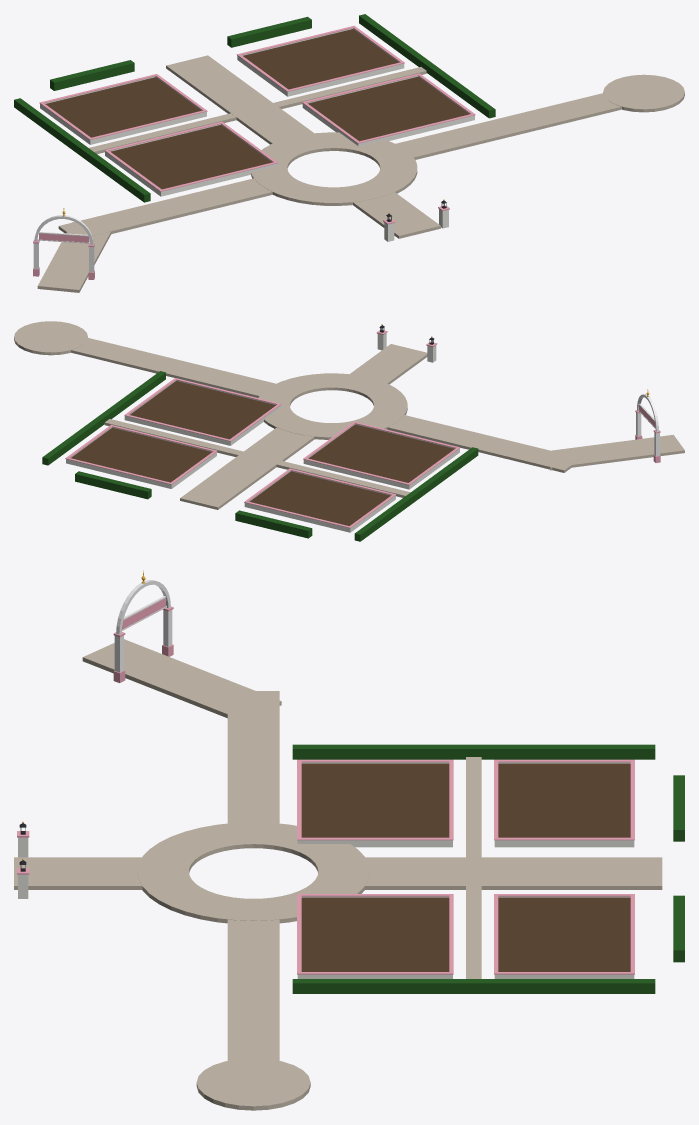
The model's file is SM_ObeliskGirls_Garden.fbx.
3 views of the same model, one above another, from view 1: azimuth 30°, elevation 25°; view 2: azimuth 150°, elevation 25°; view 3: azimuth 270°, elevation 25° (orthographic). The views are drawn at different scales.
Visible parts, largest first — view 1: SM_ObeliskGirls_Garden; view 2: SM_ObeliskGirls_Garden; view 3: SM_ObeliskGirls_Garden.
Part boxes in pixels (x1,y1,x2,y2): SM_ObeliskGirls_Garden: [14, 14, 684, 292]; SM_ObeliskGirls_Garden: [14, 321, 684, 541]; SM_ObeliskGirls_Garden: [14, 570, 684, 1110].
Bounding box in the file's own units: 85.47 × 8.31 × 51.8.
